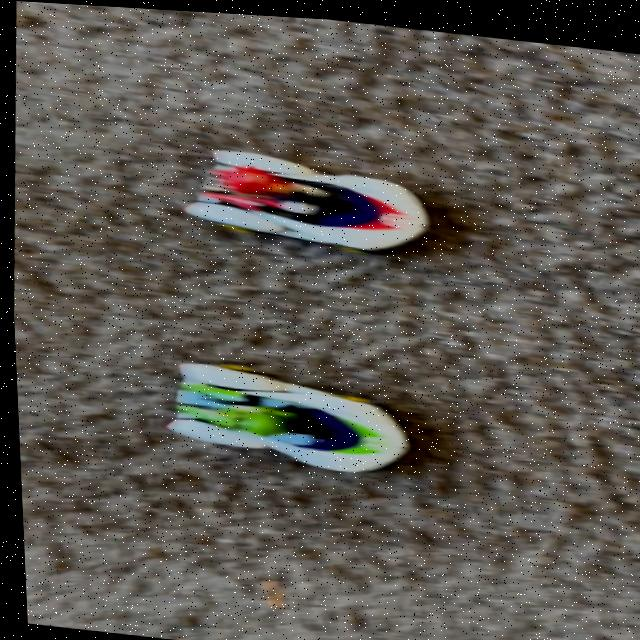mario: (175, 142, 453, 270)
yoshi: (133, 350, 429, 488)
